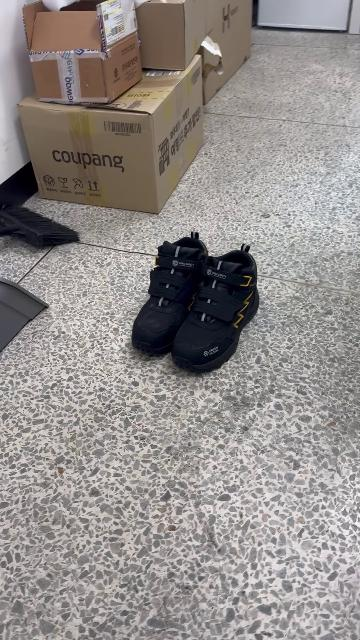shoe_worn: (170, 240, 263, 378), (131, 231, 211, 362)
